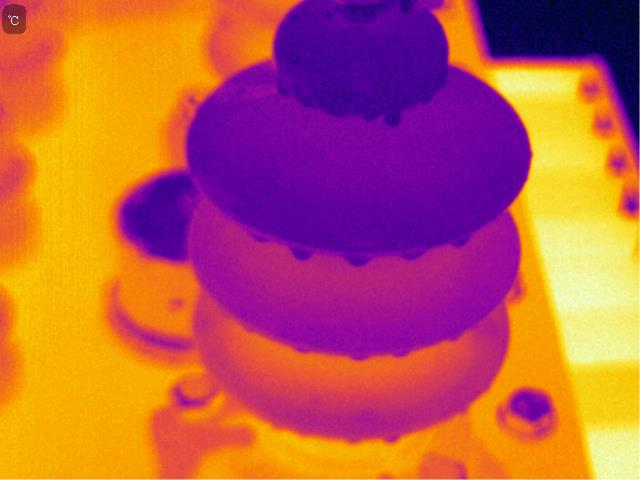Water: (380, 107, 410, 129), (287, 242, 316, 263), (247, 227, 277, 247), (344, 252, 375, 269), (286, 339, 314, 357), (346, 347, 370, 365), (446, 234, 474, 249), (398, 249, 427, 263), (442, 330, 470, 344), (387, 346, 413, 361), (325, 107, 355, 119), (274, 79, 290, 100), (339, 433, 362, 445), (380, 431, 400, 444), (418, 92, 434, 106), (299, 94, 311, 111), (359, 112, 378, 122)
